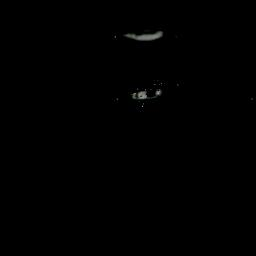boat: (116, 14, 168, 56), (126, 78, 168, 111)
